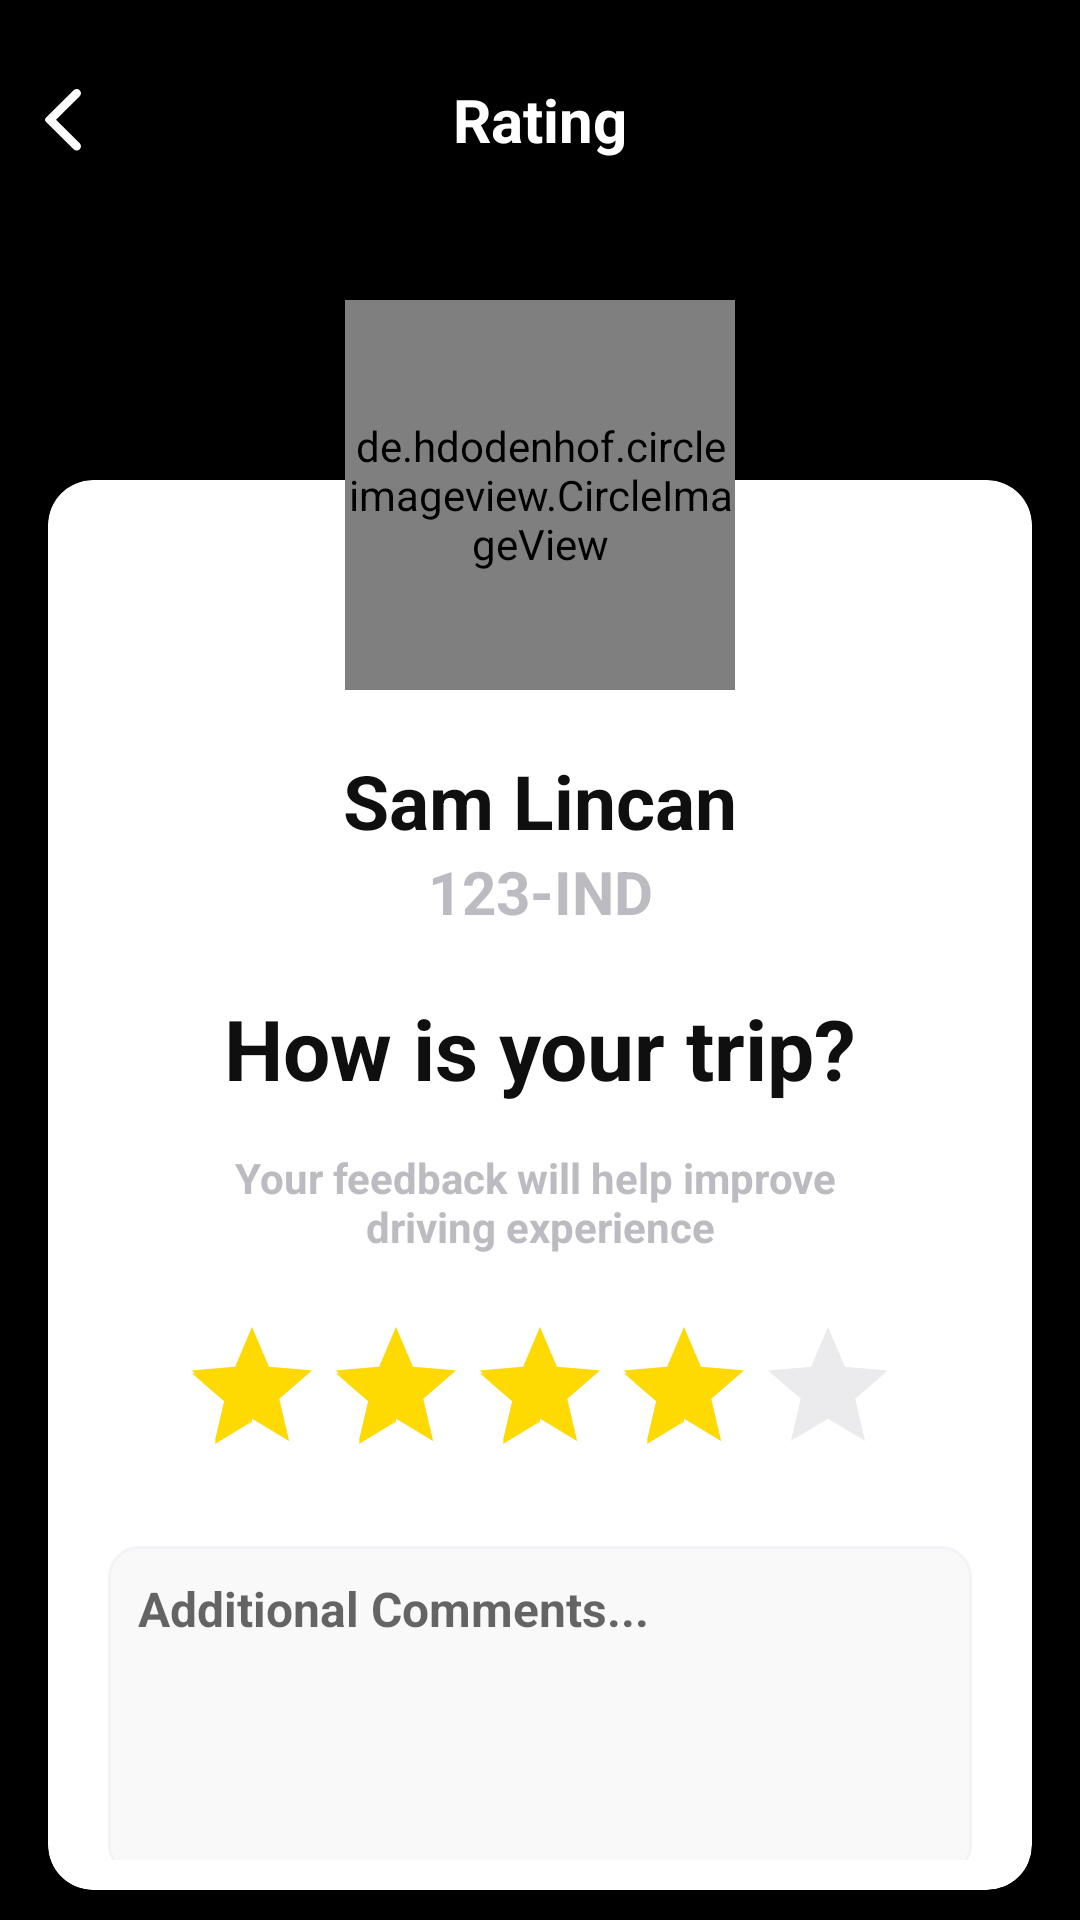

Icons on this 1080 x 1920 Android screen, each with the point to tap as [x,y]:
left arrow: [63,120]
